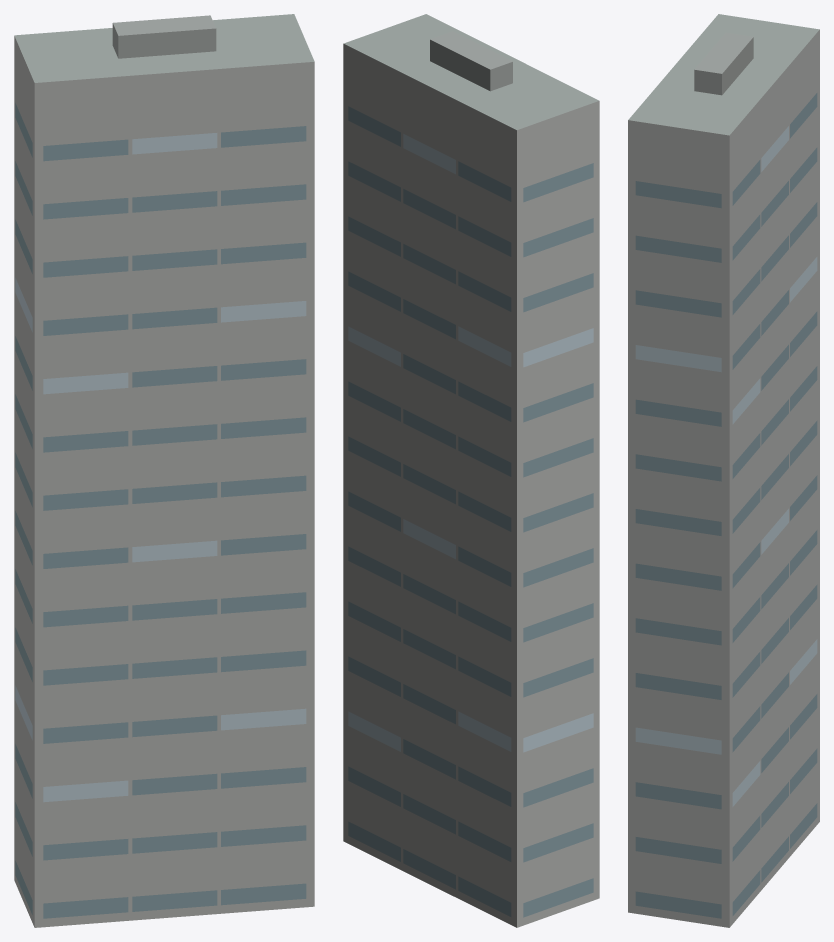
Rendered from fallback-dh-honor-hills-305.glb.
3 views of the same model, side by side, from view 1: azimuth 30°, elevation 25°; view 2: azimuth 150°, elevation 25°; view 3: azimuth 270°, elevation 25° (orthographic). The views are drawn at different scales.
Visible parts, largest first — view 1: fallback-dh-honor-hills-305; view 2: fallback-dh-honor-hills-305; view 3: fallback-dh-honor-hills-305.
Boxes of the visible parts, bbox=[...] form: fallback-dh-honor-hills-305: bbox=[14, 14, 314, 927]; fallback-dh-honor-hills-305: bbox=[343, 14, 599, 927]; fallback-dh-honor-hills-305: bbox=[628, 14, 819, 927].
Bounding box in the file's own units: 29.14 × 91 × 19.43.
